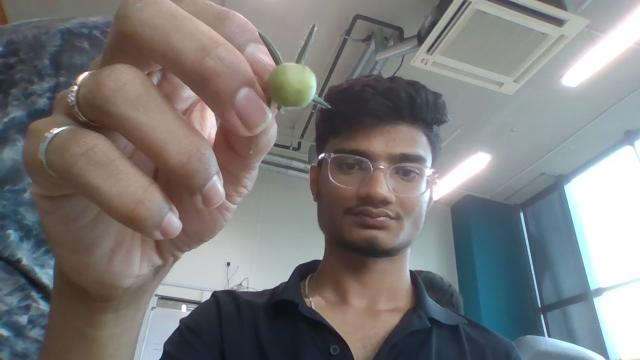Fruit Maturation: (266, 61, 318, 111)
